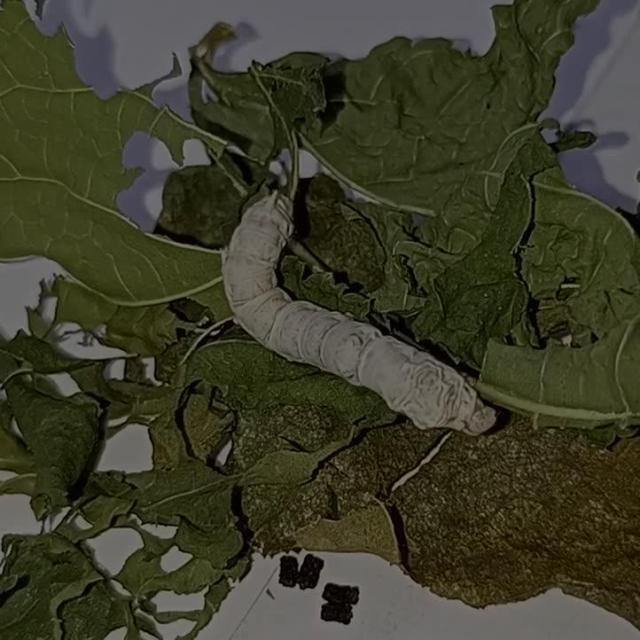Healthy: (211, 177, 504, 443)
